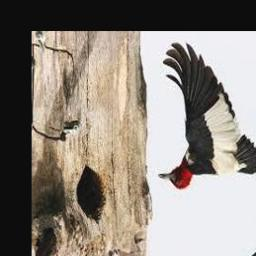Woodpecker: (159, 43, 256, 189)
